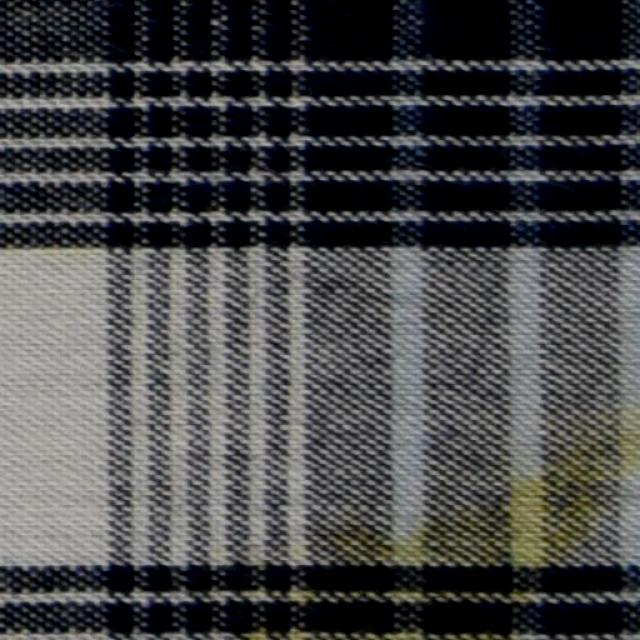Stain: (229, 444, 633, 632)
